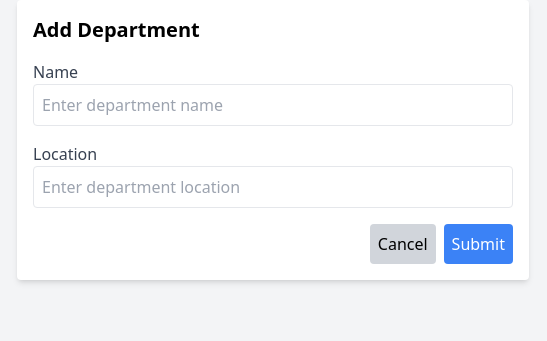
Test: DepartmentForm › displays error on submission failure
Type "HR" into the field labelled "Name" at (273, 105), box [33,84,513,126]
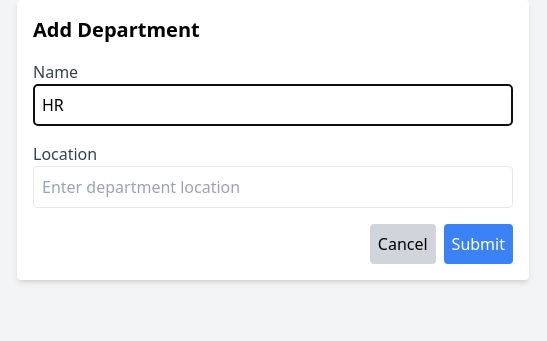
Click the button "Submit" at (478, 244), box [444,224,513,264]
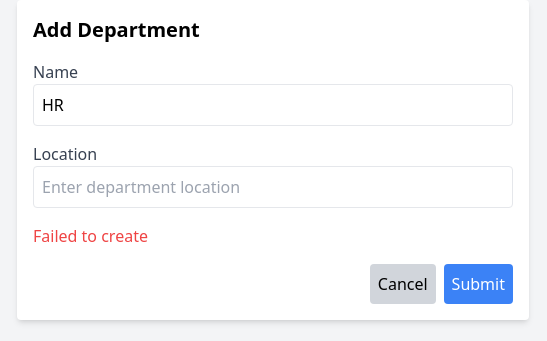
Expected: the text "Failed to create" is shown, [33,225,148,247]
